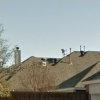Chimney: (10, 37, 28, 70)
